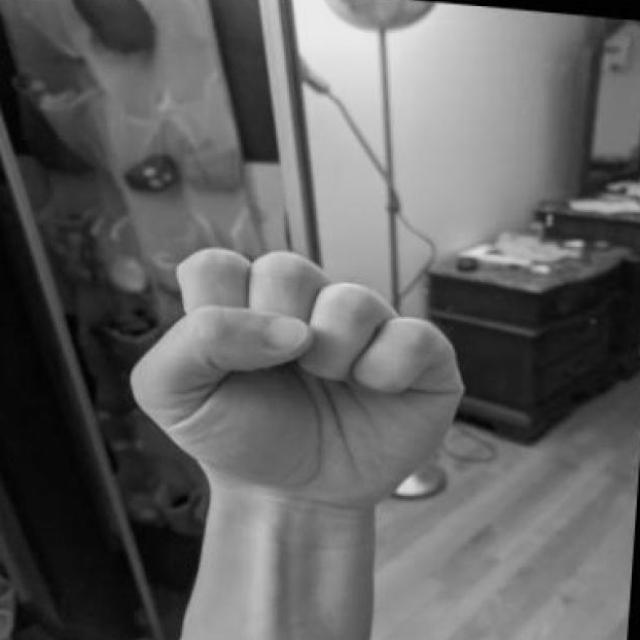S: (126, 223, 482, 601)
